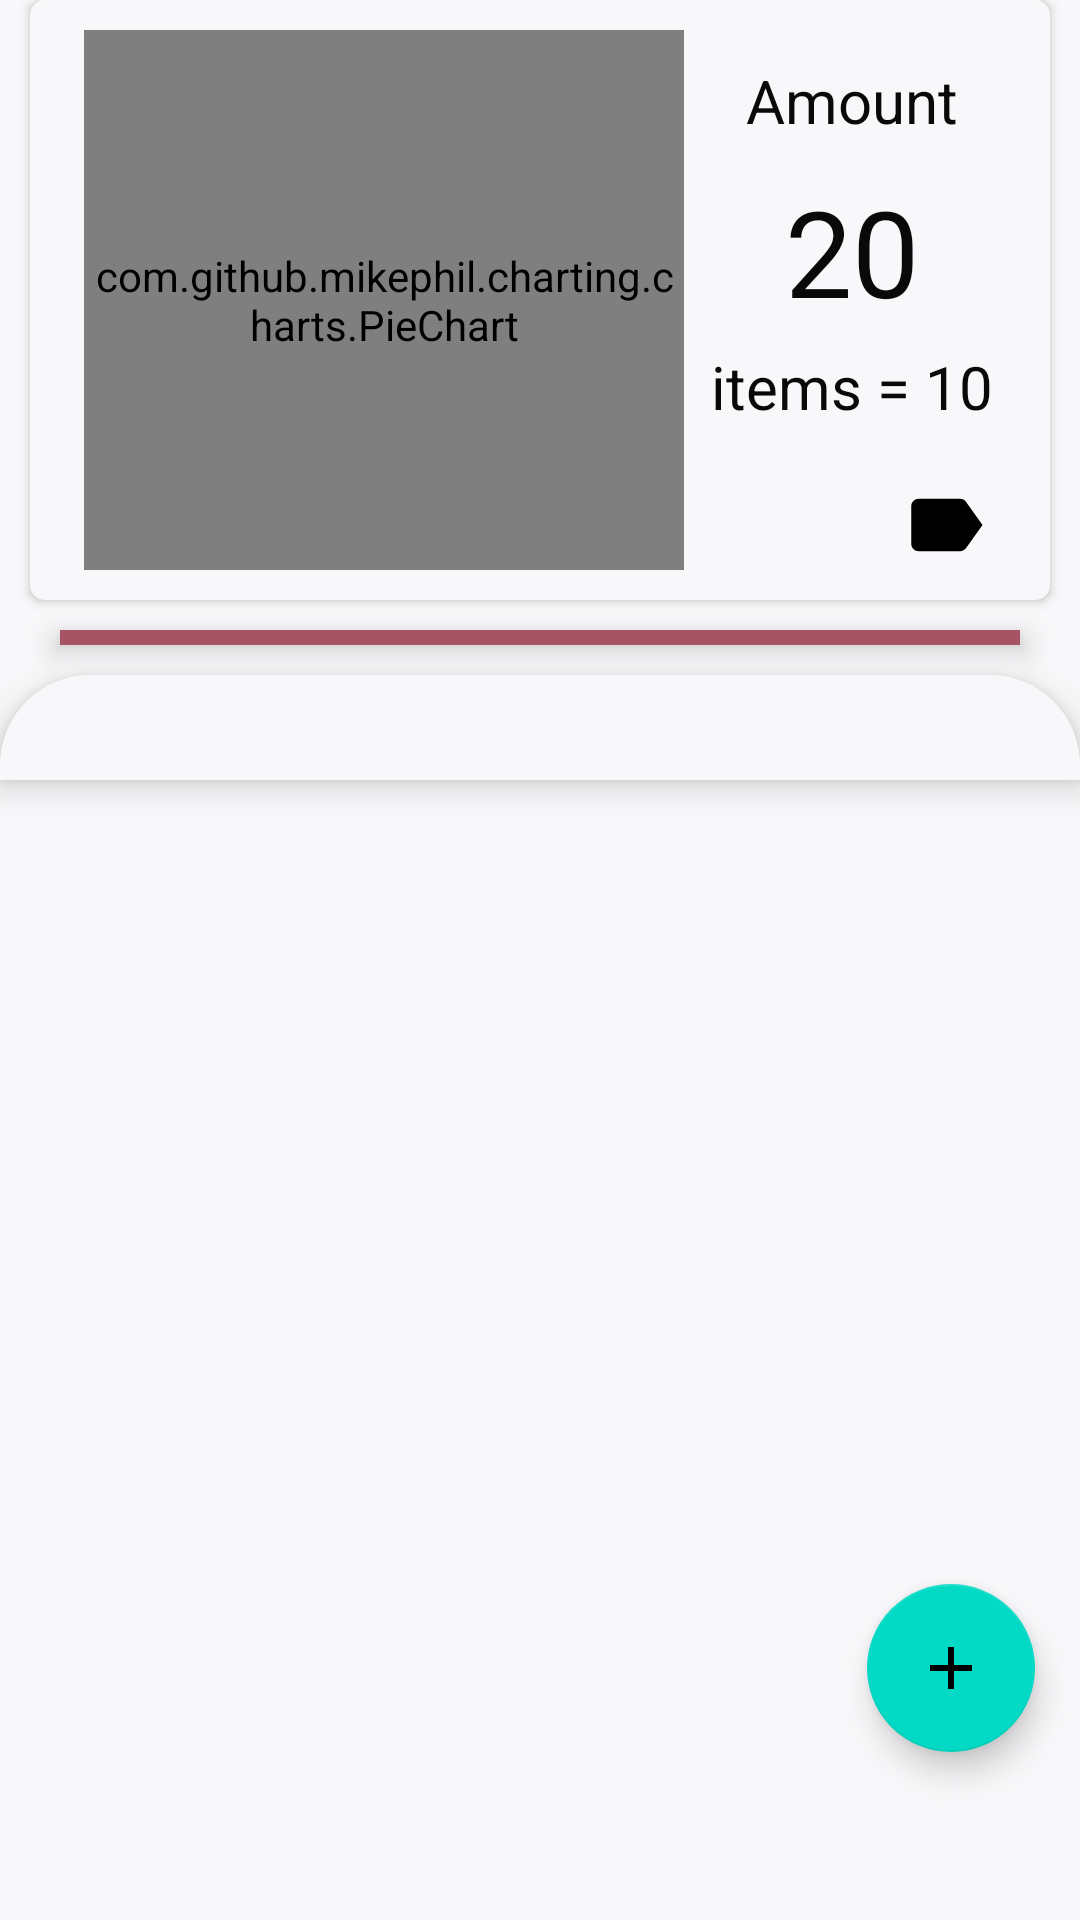

Point at icon controls on the screen. Image size 1080*1920, points as (x,y).
label: (947,525)
